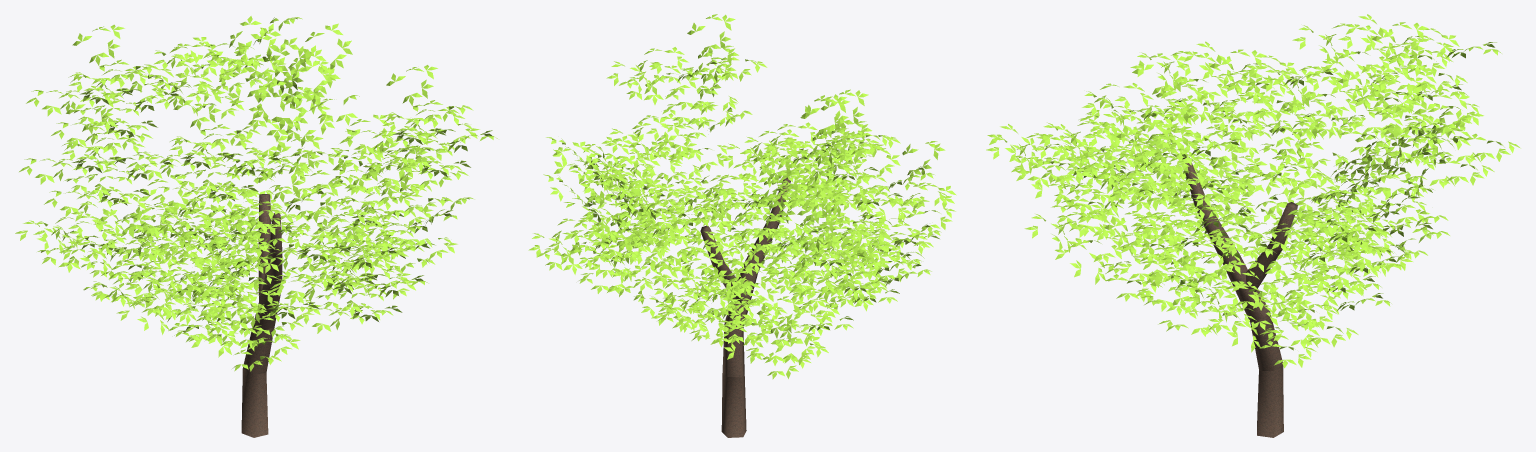
File: tree.obj
The picture shows the model from 3 angles, left to right: view 1: azimuth 30°, elevation 25°; view 2: azimuth 150°, elevation 25°; view 3: azimuth 270°, elevation 25°; orthographic projection. The views are drawn at different scales.
Visible parts, largest first — view 1: Mesh4501 trunk_w_branch1 puno1 Model; view 2: Mesh4501 trunk_w_branch1 puno1 Model; view 3: Mesh4501 trunk_w_branch1 puno1 Model.
Part boxes in pixels (x1=…): Mesh4501 trunk_w_branch1 puno1 Model: x1=241, y1=194, x2=282, y2=437; Mesh4501 trunk_w_branch1 puno1 Model: x1=700, y1=177, x2=790, y2=437; Mesh4501 trunk_w_branch1 puno1 Model: x1=1182, y1=157, x2=1297, y2=437.
Size of the model in its own units: 6.47 by 5.39 by 7.18.
2 materials, 1 textured.
